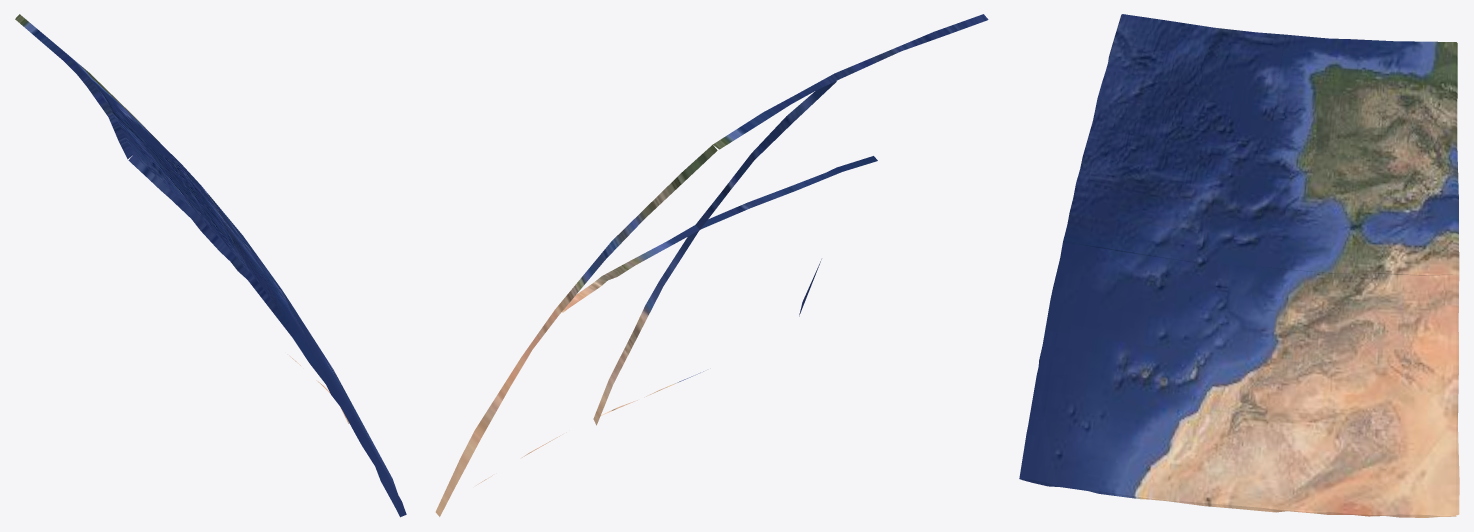
3 views of the same model, side by side, from view 1: azimuth 30°, elevation 25°; view 2: azimuth 150°, elevation 25°; view 3: azimuth 270°, elevation 25° (orthographic). The views are drawn at different scales.
Size of the model in its own units: 1759996 by 2102800 by 2288169.
Materials: 1 (1 with a texture image).
